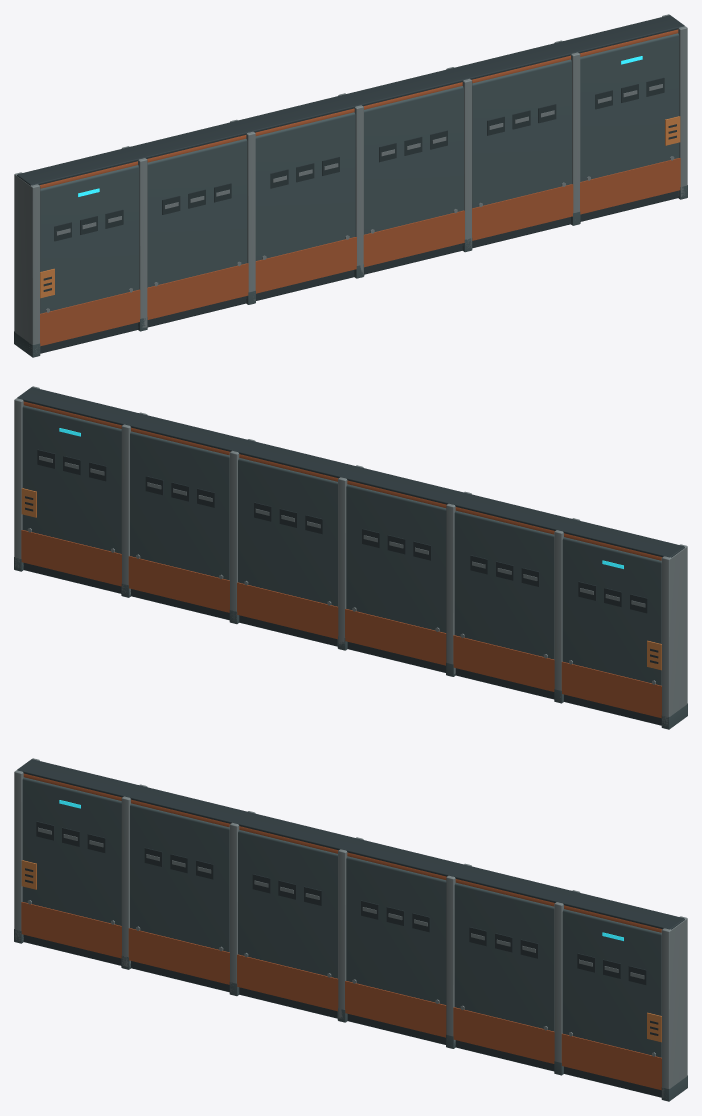
Rendered from e6-sight-screen.glb.
3 views of the same model, one above another, from view 1: azimuth 30°, elevation 25°; view 2: azimuth 150°, elevation 25°; view 3: azimuth 330°, elevation 25° (orthographic).
Parts seen in each view (by area): view 1: e6-sight-screen | Folded dark grey steel, e6-sight-screen | Band 6 old oxide red, e6-sight-screen | Dark ceramic seams, e6-sight-screen | Machined kick plates, e6-sight-screen | Copper enamel on shoulders; view 2: e6-sight-screen | Folded dark grey steel, e6-sight-screen | Band 6 old oxide red, e6-sight-screen | Dark ceramic seams, e6-sight-screen | Machined kick plates, e6-sight-screen | Copper enamel on shoulders; view 3: e6-sight-screen | Folded dark grey steel, e6-sight-screen | Band 6 old oxide red, e6-sight-screen | Dark ceramic seams, e6-sight-screen | Machined kick plates, e6-sight-screen | Copper enamel on shoulders.
Boxes of the visible parts, <box> form: e6-sight-screen | Folded dark grey steel: <box>14,33,687,357</box>; e6-sight-screen | Band 6 old oxide red: <box>40,29,680,346</box>; e6-sight-screen | Dark ceramic seams: <box>17,15,684,353</box>; e6-sight-screen | Machined kick plates: <box>14,14,687,353</box>; e6-sight-screen | Copper enamel on shoulders: <box>40,116,680,298</box>; e6-sight-screen | Folded dark grey steel: <box>14,405,687,729</box>; e6-sight-screen | Band 6 old oxide red: <box>21,401,661,718</box>; e6-sight-screen | Dark ceramic seams: <box>17,387,684,725</box>; e6-sight-screen | Machined kick plates: <box>14,386,687,725</box>; e6-sight-screen | Copper enamel on shoulders: <box>21,488,661,670</box>; e6-sight-screen | Folded dark grey steel: <box>14,777,687,1101</box>; e6-sight-screen | Band 6 old oxide red: <box>21,773,661,1090</box>; e6-sight-screen | Dark ceramic seams: <box>17,759,684,1097</box>; e6-sight-screen | Machined kick plates: <box>14,758,687,1098</box>; e6-sight-screen | Copper enamel on shoulders: <box>21,860,661,1042</box>.
Bounding box in the file's own units: 12 × 3 × 0.6.
